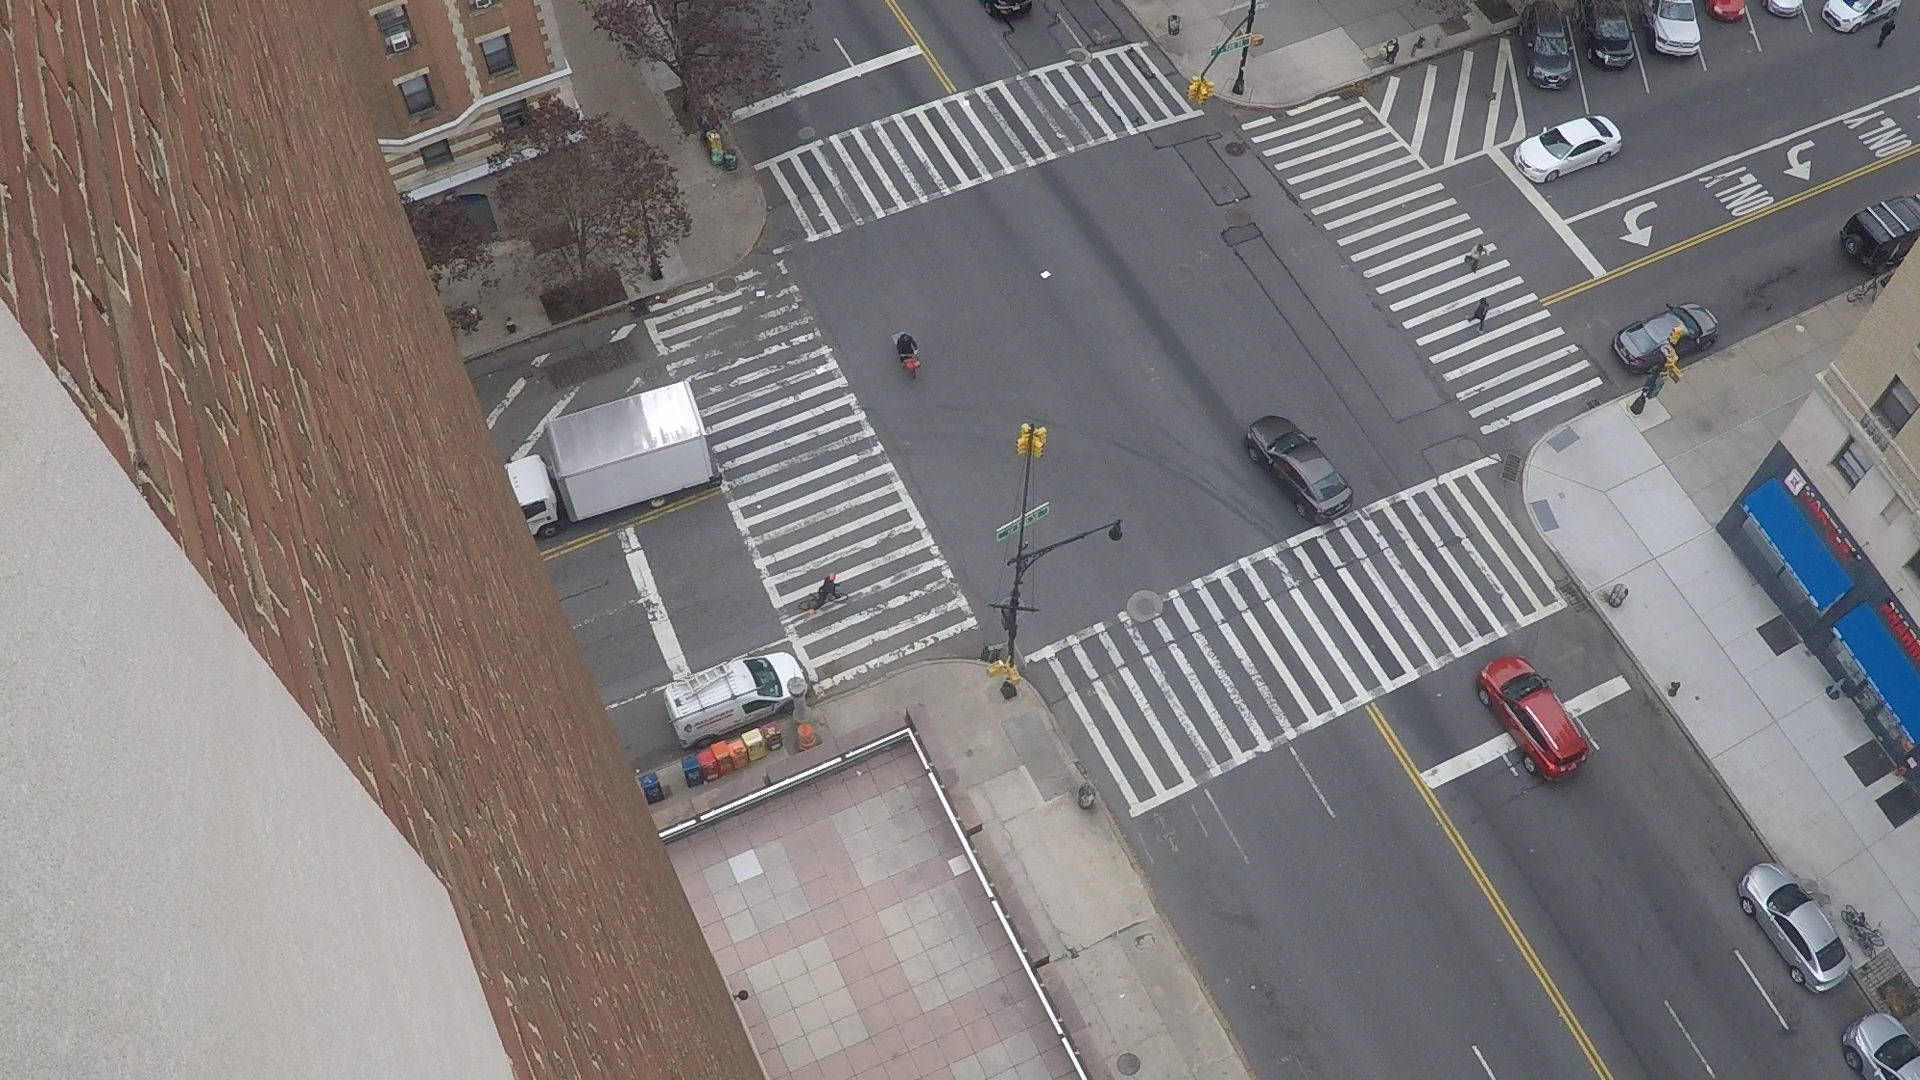Car: (978, 0, 986, 12), (1635, 0, 1636, 18), (1760, 0, 1762, 8)
